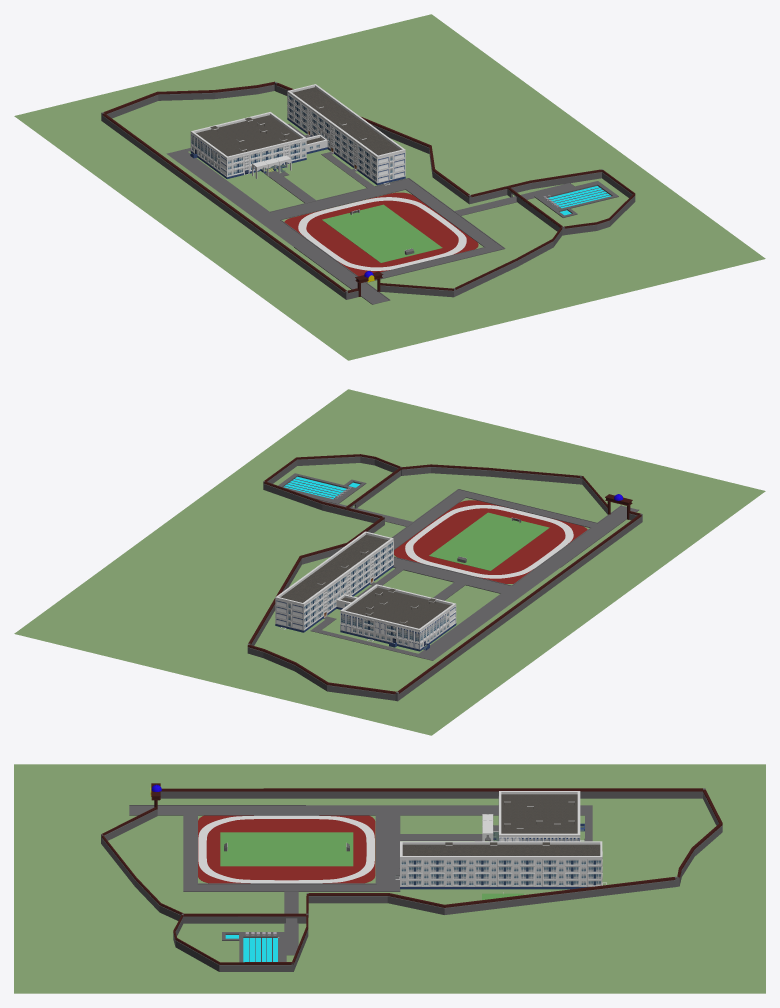
Rendered from Sekolah Baru.fbx.
3 renders of one model, top to bottom at view 1: azimuth 30°, elevation 25°; view 2: azimuth 150°, elevation 25°; view 3: azimuth 270°, elevation 25°, orthographic. The views are drawn at different scales.
Visible parts, largest first — view 1: Jalan, Tembok, Lap. Bola, Gedung B, Gedung A, Pinggiran kolam, Kolam Renang; view 2: Jalan, Tembok, Lap. Bola, Gedung B, Gedung A, Kolam Renang, Pinggiran kolam; view 3: Jalan, Tembok, Lap. Bola, Gedung B, Gedung A, Kolam Renang, Pinggiran kolam, Jalan.002, Jalan.003.
Boxes of the visible parts, x1,y1,x2,y2 form: Jalan: (14,14,765,360); Tembok: (101,81,635,299); Lap. Bola: (284,192,478,276); Gedung B: (287,84,405,185); Gedung A: (190,112,306,178); Pinggiran kolam: (534,181,618,217); Kolam Renang: (548,186,611,215); Jalan: (14,389,765,735); Tembok: (247,454,642,701); Lap. Bola: (394,500,587,583); Gedung B: (275,531,393,632); Gedung A: (340,584,456,651); Kolam Renang: (284,476,359,499); Pinggiran kolam: (278,473,366,504); Jalan: (14,764,765,993); Tembok: (101,783,722,971); Lap. Bola: (198,815,375,883); Gedung B: (400,841,602,889); Gedung A: (498,791,580,841); Kolam Renang: (225,935,277,962); Pinggiran kolam: (222,932,286,962); Jalan.002: (399,834,482,840); Jalan.003: (284,920,298,954).
Size of the model in its own units: 20225 by 1696 by 28041.
